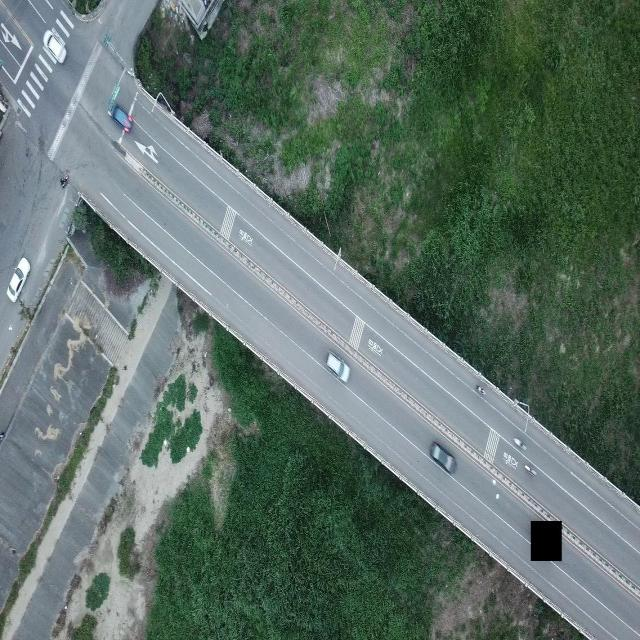bike: (512, 436, 528, 452), (59, 168, 70, 191), (523, 462, 537, 479), (475, 382, 486, 397)
car: (6, 256, 31, 303), (429, 438, 458, 474), (325, 350, 351, 384), (43, 29, 66, 64), (109, 101, 132, 131)
